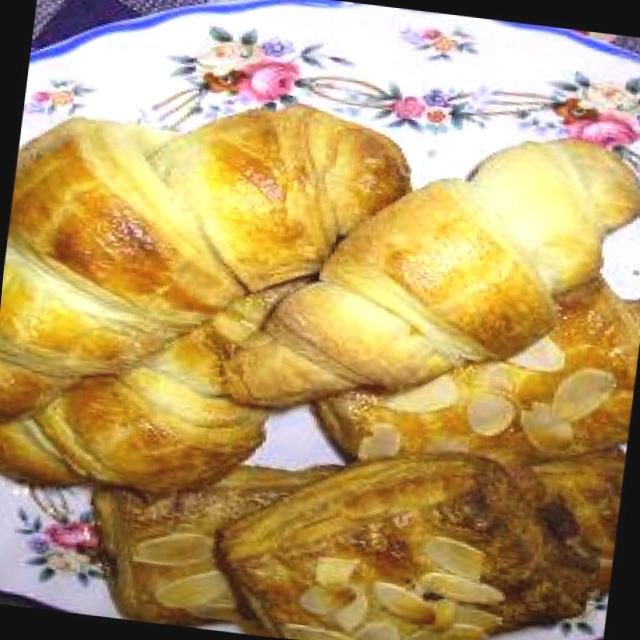Croissant: (0, 76, 412, 501)
